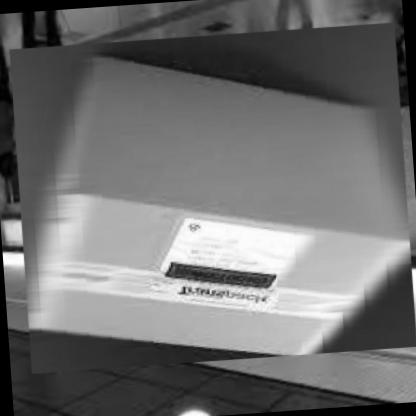box: (3, 15, 416, 379)
